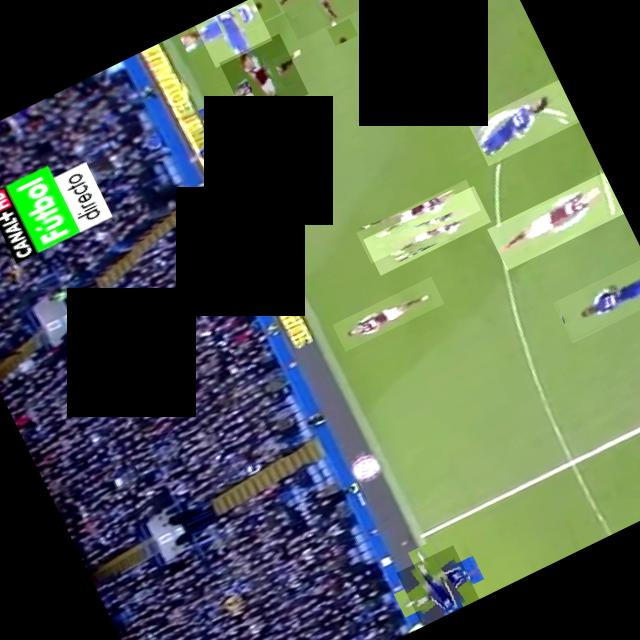referee: (355, 179, 480, 263)
soccer-player: (486, 172, 624, 270), (362, 186, 490, 276), (467, 79, 579, 166), (331, 276, 443, 352), (218, 33, 308, 123), (552, 257, 640, 343), (396, 544, 478, 626), (190, 108, 262, 180), (194, 0, 271, 67), (271, 0, 373, 39)
